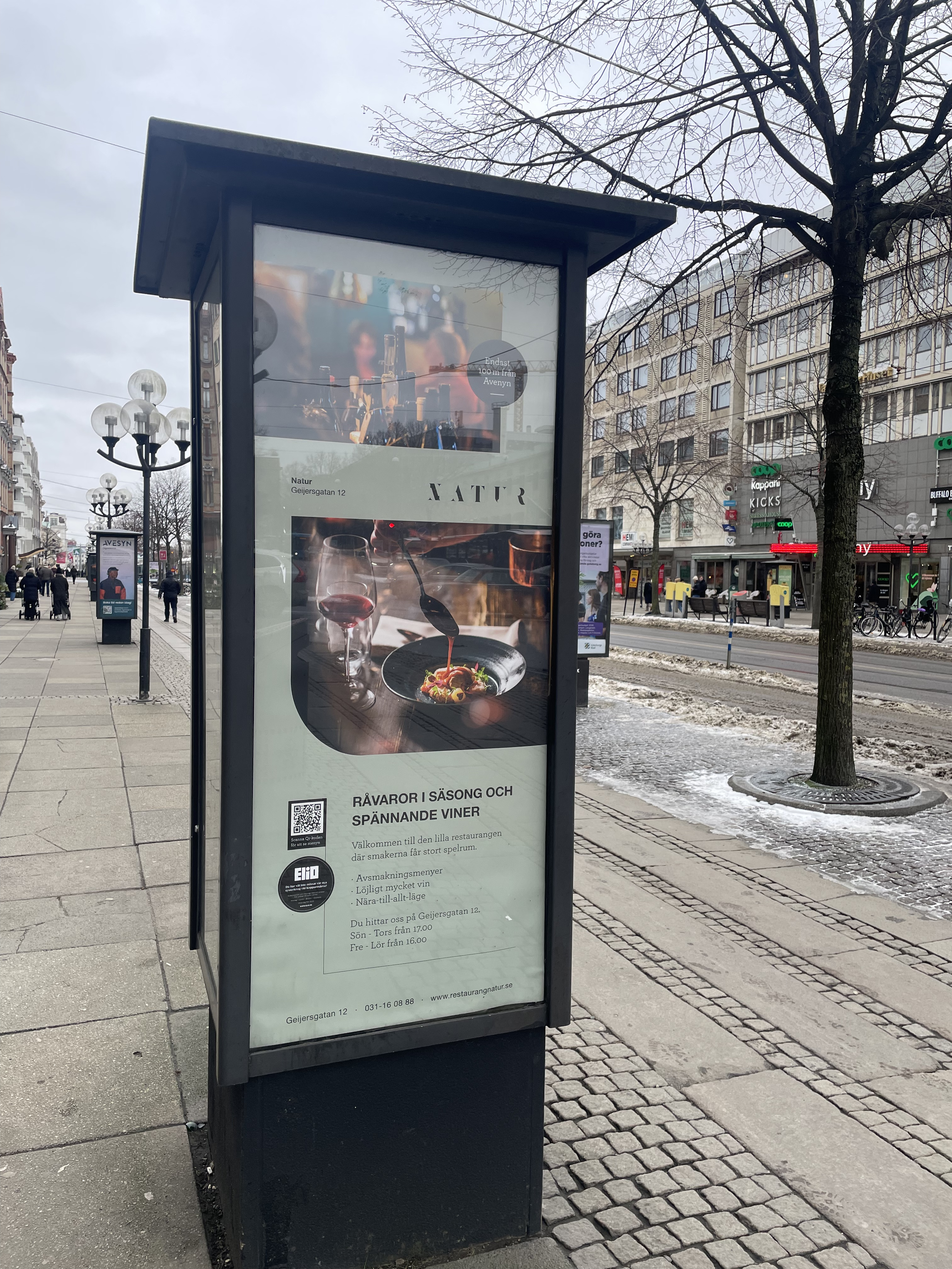advertisement: (252, 217, 557, 1051)
